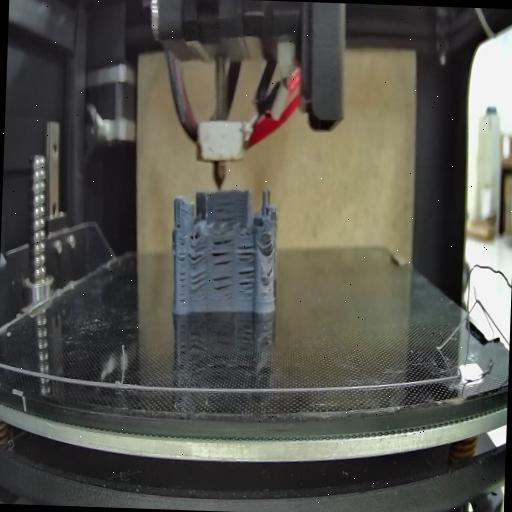cracks: (187, 248, 208, 296), (176, 235, 188, 305), (212, 274, 233, 300), (215, 201, 237, 224), (236, 268, 254, 296), (210, 250, 234, 266), (238, 244, 256, 264), (262, 264, 274, 288), (260, 240, 274, 257), (214, 238, 232, 244)
